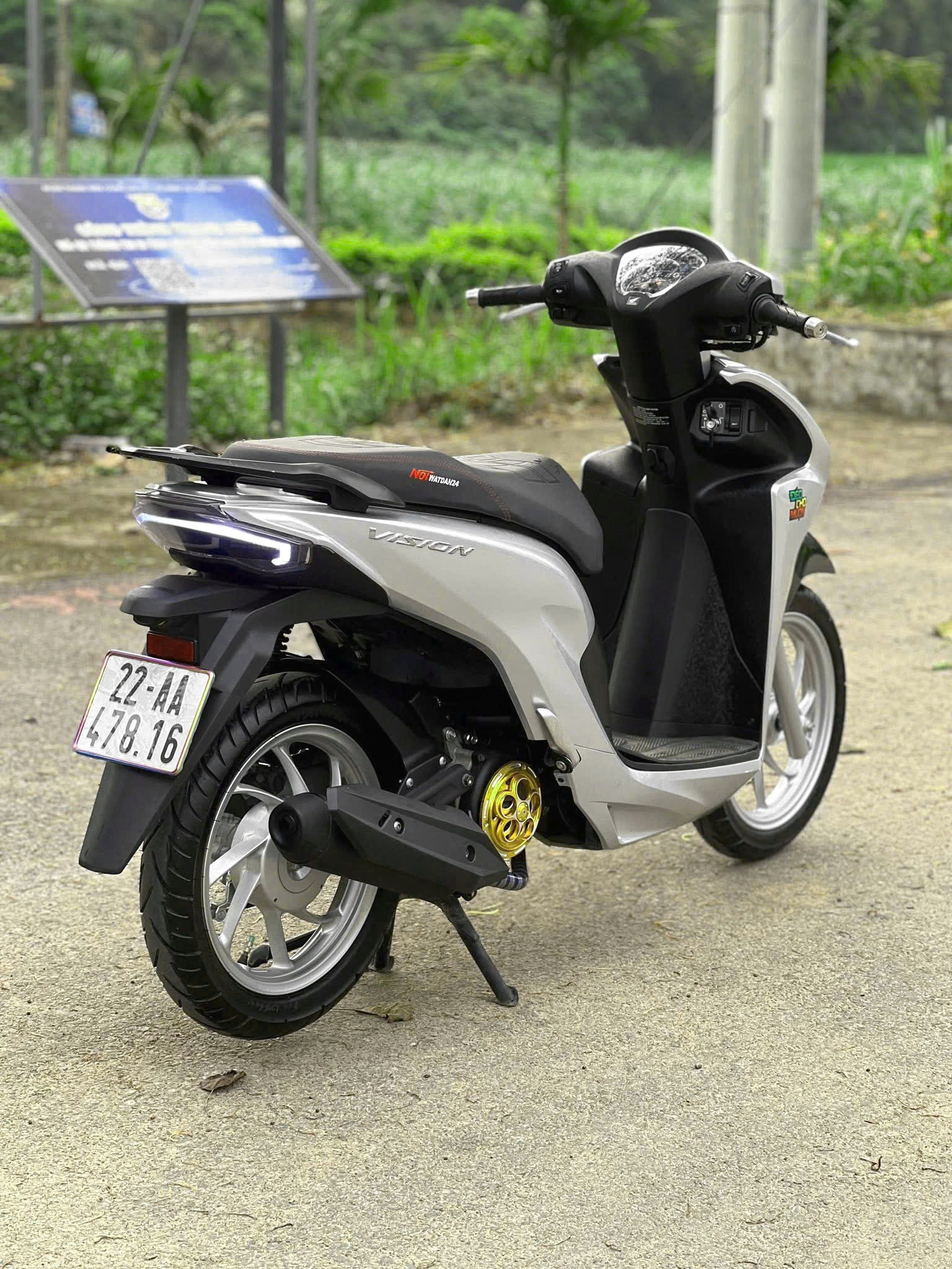Bien-so: (53, 657, 221, 803)
